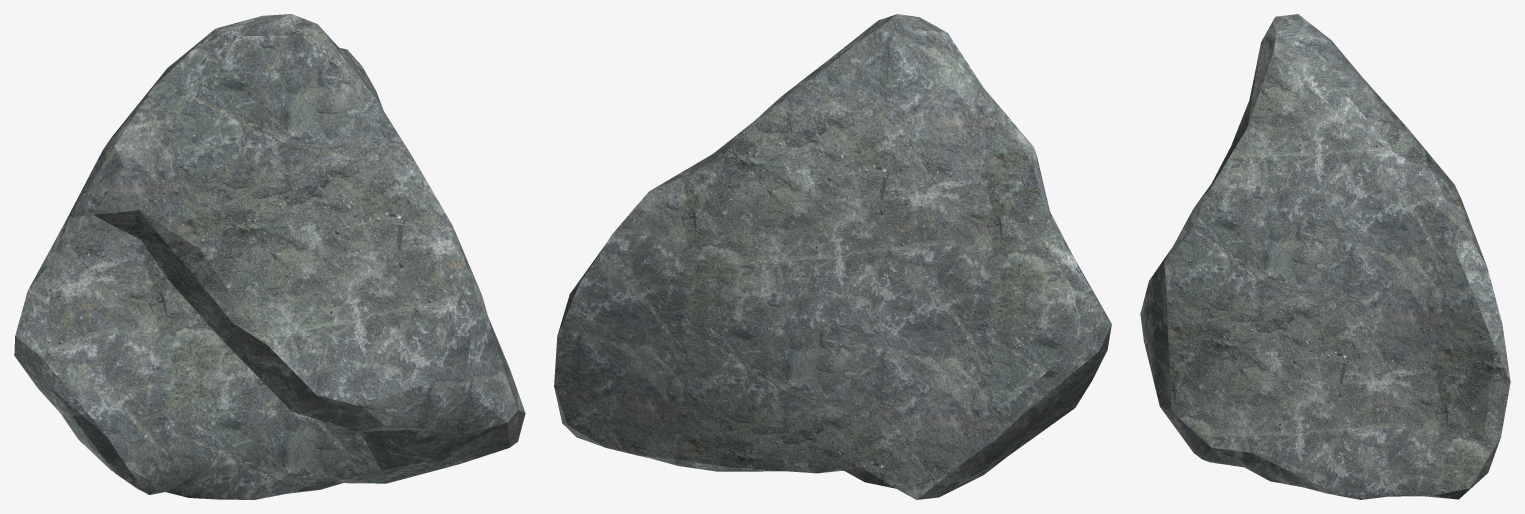
The picture shows the model from 3 angles, left to right: view 1: azimuth 30°, elevation 25°; view 2: azimuth 150°, elevation 25°; view 3: azimuth 270°, elevation 25°; orthographic projection. The views are drawn at different scales.
Parts seen in each view (by area): view 1: group_0; view 2: group_0; view 3: group_0.
Part boxes in pixels (x1,y1,x2,y2): group_0: (14,14,525,499); group_0: (554,14,1111,499); group_0: (1140,14,1510,499).
Bounding box in the file's own units: 68.3 × 52.14 × 58.26.
Materials: 1 (1 with a texture image).
